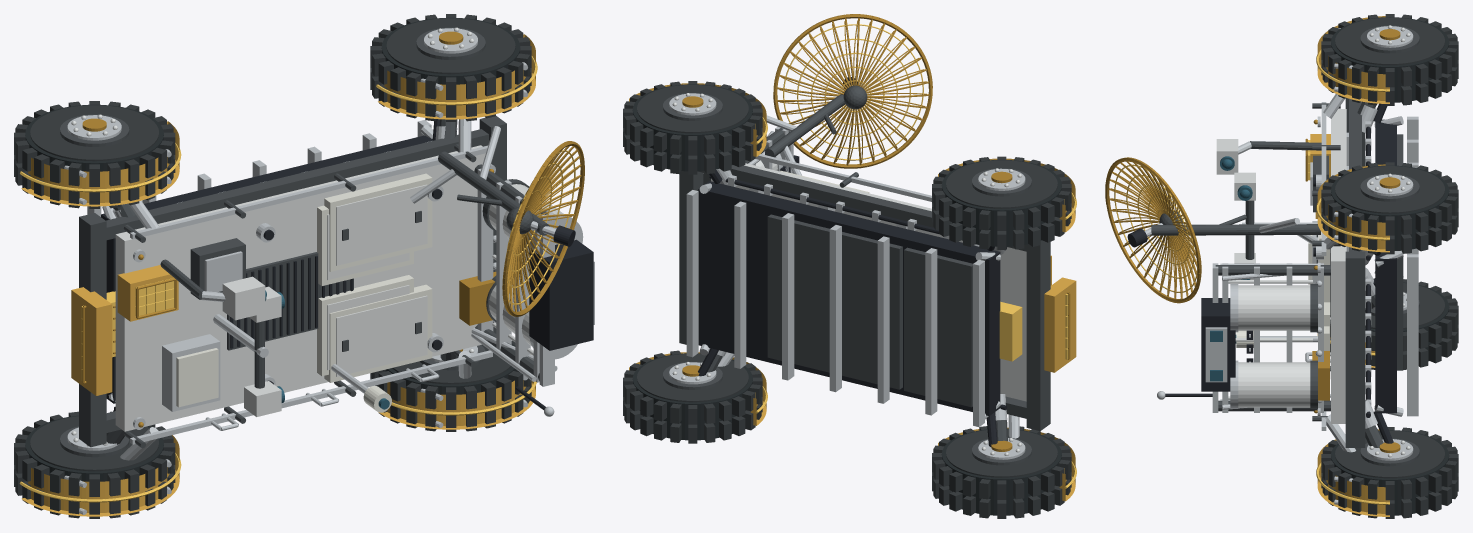
File: apollo-lrv.glb
The picture shows the model from 3 angles, left to right: view 1: azimuth 30°, elevation 25°; view 2: azimuth 150°, elevation 25°; view 3: azimuth 270°, elevation 25°; orthographic projection. The views are drawn at different scales.
Parts seen in each view (by area): view 1: 0023_top_deck_main_plate, 0012_side_longitudinal_rail_0.92, 0130_upper_rear_instrument_housing, 2363_top_equipment_panel_inset_0, 2367_top_equipment_panel_inset_1, 0522_rear_right_sidewall_rim_0.205, 0270_front_right_sidewall_rim_0.205, 0059_front_gold_equipment_plate, 0057_front_bumper_frame, 2343_central_ribbed_deck_panel, 0001_central_underside_pan, 0144_front_left_sidewall_rim_0.205 (+38 smaller); view 2: 0001_central_underside_pan, 0002_underside_bay_a, 0003_underside_bay_b, 0057_front_bumper_frame, 0023_top_deck_main_plate, 0012_side_longitudinal_rail_0.92, 0270_front_right_sidewall_rim_0.205, 0522_rear_right_sidewall_rim_0.205, 0144_front_left_sidewall_rim_0.205, 0396_rear_left_sidewall_rim_0.205, 0059_front_gold_equipment_plate, 0006_belly_cross_member_-0.55 (+23 smaller); view 3: 0001_central_underside_pan, 0058_rear_bumper_frame, 0023_top_deck_main_plate, 0120_rear_thermal_canister_-0.43, 0125_rear_thermal_canister_0.43, 0270_front_right_sidewall_rim_0.205, 0522_rear_right_sidewall_rim_0.205, 0396_rear_left_sidewall_rim_0.205, 0010_belly_cross_member_1.65, 0130_upper_rear_instrument_housing, 0663_dish_main_mast, 0520_rear_right_tire (+28 smaller).
Part boxes in pixels (x1,y1,x2,y2): 0023_top_deck_main_plate: [115, 145, 485, 431]; 0012_side_longitudinal_rail_0.92: [106, 129, 488, 239]; 0130_upper_rear_instrument_housing: [529, 239, 593, 350]; 2363_top_equipment_panel_inset_0: [336, 295, 427, 376]; 2367_top_equipment_panel_inset_1: [336, 184, 427, 265]; 0522_rear_right_sidewall_rim_0.205: [386, 18, 515, 74]; 0270_front_right_sidewall_rim_0.205: [30, 105, 158, 161]; 0059_front_gold_equipment_plate: [71, 287, 112, 395]; 0057_front_bumper_frame: [79, 213, 106, 447]; 2343_central_ribbed_deck_panel: [227, 252, 353, 350]; 0001_central_underside_pan: [101, 135, 432, 403]; 0144_front_left_sidewall_rim_0.205: [30, 416, 158, 471]; 0001_central_underside_pan: [698, 181, 1000, 415]; 0002_underside_bay_a: [767, 214, 902, 389]; 0003_underside_bay_b: [904, 247, 972, 407]; 0057_front_bumper_frame: [1026, 240, 1050, 430]; 0023_top_deck_main_plate: [711, 163, 1026, 401]; 0012_side_longitudinal_rail_0.92: [698, 165, 1026, 251]; 0270_front_right_sidewall_rim_0.205: [946, 160, 1057, 208]; 0522_rear_right_sidewall_rim_0.205: [637, 85, 748, 133]; 0144_front_left_sidewall_rim_0.205: [946, 429, 1057, 477]; 0396_rear_left_sidewall_rim_0.205: [637, 354, 748, 402]; 0059_front_gold_equipment_plate: [1044, 277, 1076, 372]; 0006_belly_cross_member_-0.55: [877, 236, 889, 403]; 0001_central_underside_pan: [1375, 119, 1396, 413]; 0058_rear_bumper_frame: [1345, 251, 1365, 447]; 0023_top_deck_main_plate: [1331, 109, 1346, 423]; 0120_rear_thermal_canister_-0.43: [1238, 362, 1310, 407]; 0125_rear_thermal_canister_0.43: [1238, 285, 1310, 330]; 0270_front_right_sidewall_rim_0.205: [1335, 17, 1444, 65]; 0522_rear_right_sidewall_rim_0.205: [1335, 166, 1444, 213]; 0396_rear_left_sidewall_rim_0.205: [1335, 430, 1444, 478]; 0010_belly_cross_member_1.65: [1407, 254, 1418, 416]; 0130_upper_rear_instrument_housing: [1201, 298, 1235, 391]; 0663_dish_main_mast: [1151, 224, 1320, 235]; 0520_rear_right_tire: [1331, 165, 1449, 250].
Size of the model in its own units: 5.06 by 3.59 by 3.59.
